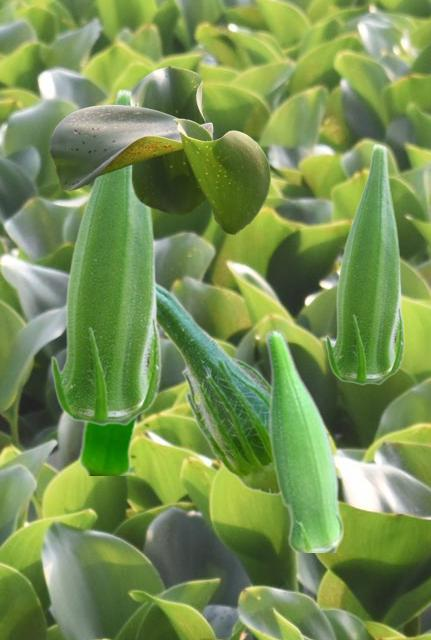okra: (50, 88, 161, 425), (157, 282, 278, 494), (325, 143, 404, 384), (264, 329, 342, 551), (78, 417, 140, 474)
